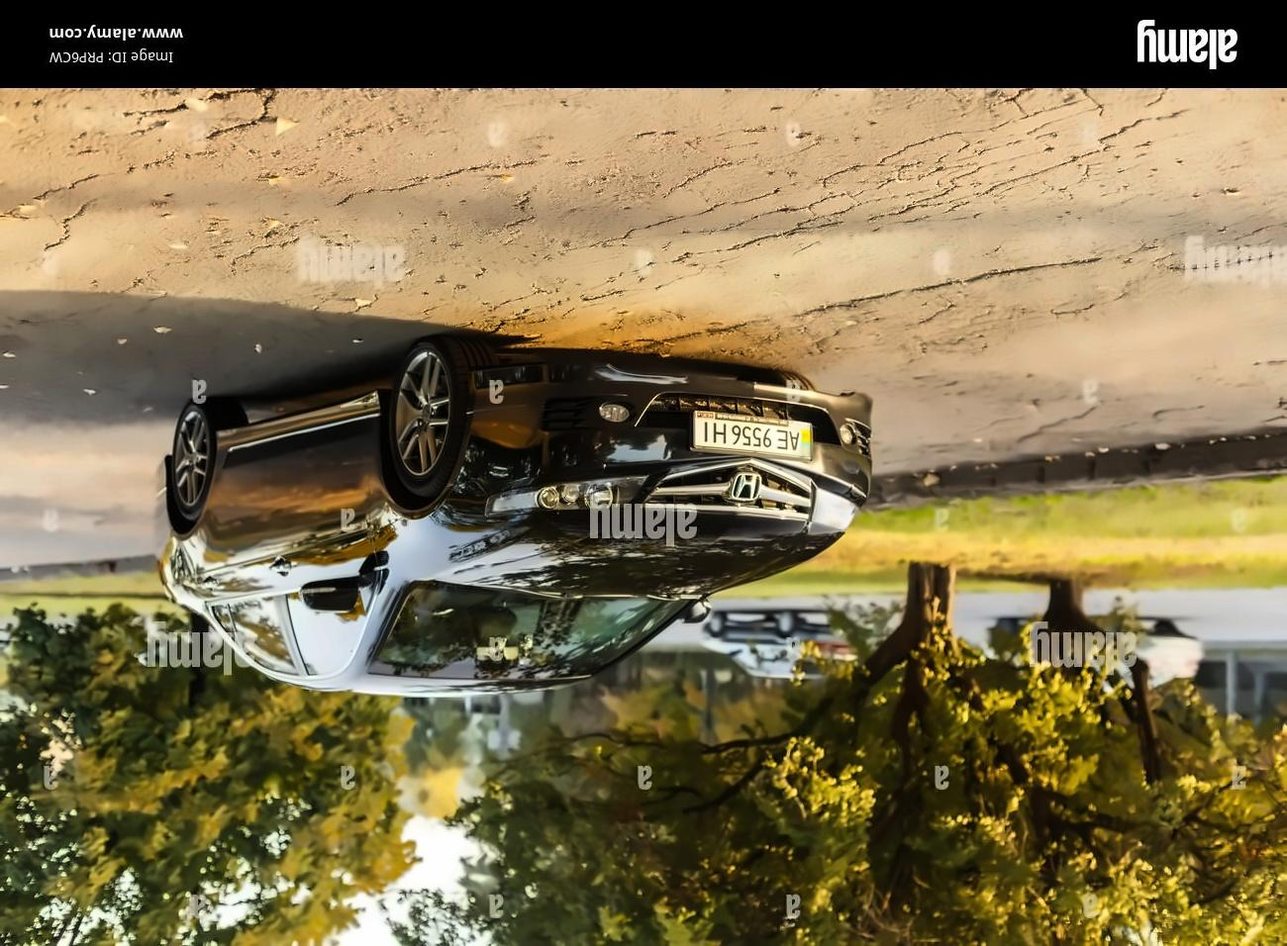Car hood: (389, 492, 852, 609)
Fender - -F-L-: (368, 431, 495, 589)
Front bumper: (454, 352, 884, 496)
Headlight - -L-: (476, 472, 649, 520)
Passenger-s door - -F-L-: (271, 372, 400, 688)
Passenger-s door - -R-L-: (202, 397, 306, 699)
Side bumper - -L-: (215, 367, 388, 492)
Side mirror - -L-: (294, 559, 388, 616)
